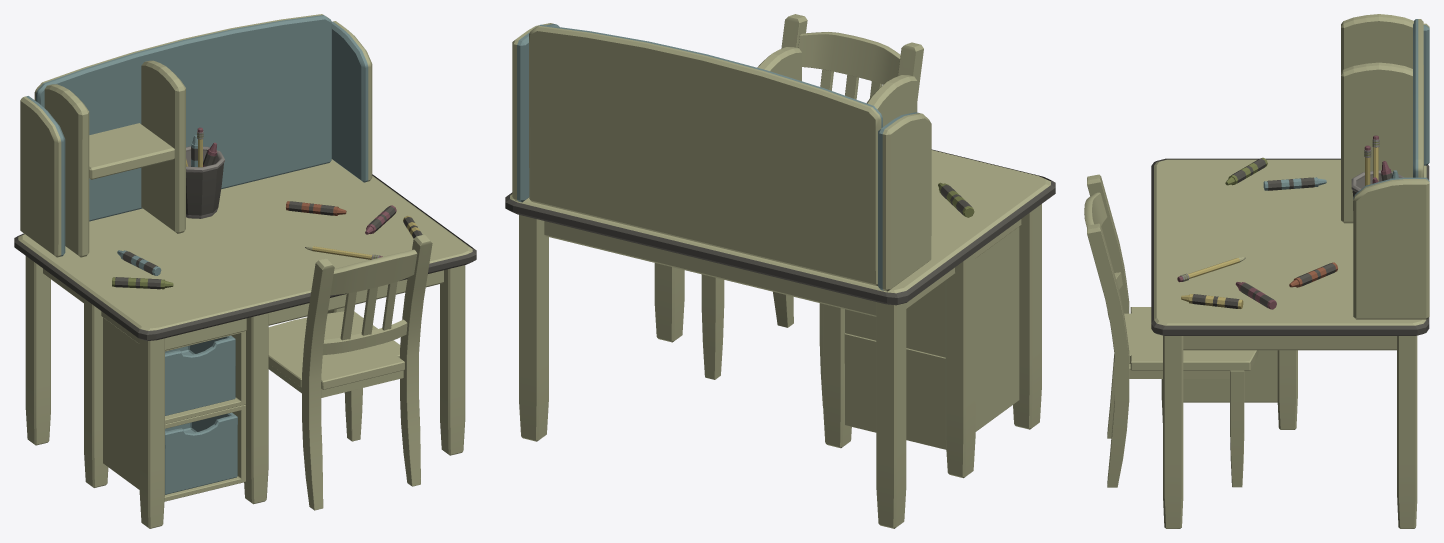
Rendered from KidDesk_Deconstructed.fbx.
The picture shows the model from 3 angles, left to right: view 1: azimuth 30°, elevation 25°; view 2: azimuth 150°, elevation 25°; view 3: azimuth 270°, elevation 25°; orthographic projection. The views are drawn at different scales.
Parts seen in each view (by area): view 1: KidDesk_Desk, KidDesk_Chair, KidDesk_Drawer2, KidDesk_Drawer1, KidDesk_PencilCup, KidDesk_CrayonGreen, KidDesk_CrayonOrange; view 2: KidDesk_Desk, KidDesk_Chair; view 3: KidDesk_Desk, KidDesk_Chair, KidDesk_CrayonBlue, KidDesk_CrayonYellow, KidDesk_CrayonOrange, KidDesk_CrayonPurple, KidDesk_CrayonGreen, KidDesk_Pencil.
Part boxes in pixels (left/top/right/bottom): KidDesk_Desk: left=14, top=14, right=476, bottom=528; KidDesk_Chair: left=268, top=234, right=432, bottom=510; KidDesk_Drawer2: left=165, top=412, right=237, bottom=494; KidDesk_Drawer1: left=165, top=335, right=235, bottom=415; KidDesk_PencilCup: left=186, top=146, right=224, bottom=218; KidDesk_CrayonGreen: left=112, top=277, right=173, bottom=289; KidDesk_CrayonOrange: left=286, top=201, right=346, bottom=215; KidDesk_Desk: left=505, top=23, right=1055, bottom=528; KidDesk_Chair: left=701, top=14, right=923, bottom=405; KidDesk_Desk: left=1151, top=14, right=1429, bottom=528; KidDesk_Chair: left=1084, top=174, right=1258, bottom=487; KidDesk_CrayonBlue: left=1263, top=177, right=1326, bottom=190; KidDesk_CrayonYellow: left=1181, top=294, right=1243, bottom=308; KidDesk_CrayonOrange: left=1289, top=262, right=1337, bottom=287; KidDesk_CrayonPurple: left=1235, top=282, right=1276, bottom=309; KidDesk_CrayonGreen: left=1225, top=157, right=1267, bottom=185; KidDesk_Pencil: left=1177, top=257, right=1245, bottom=282.
Size of the model in its own units: 240 by 244 by 206.
